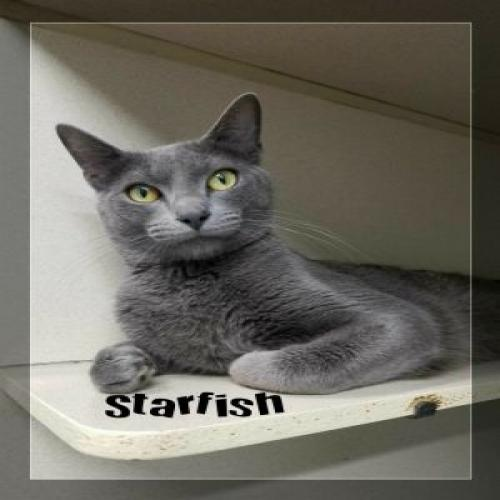rblue: (42, 92, 288, 284)
